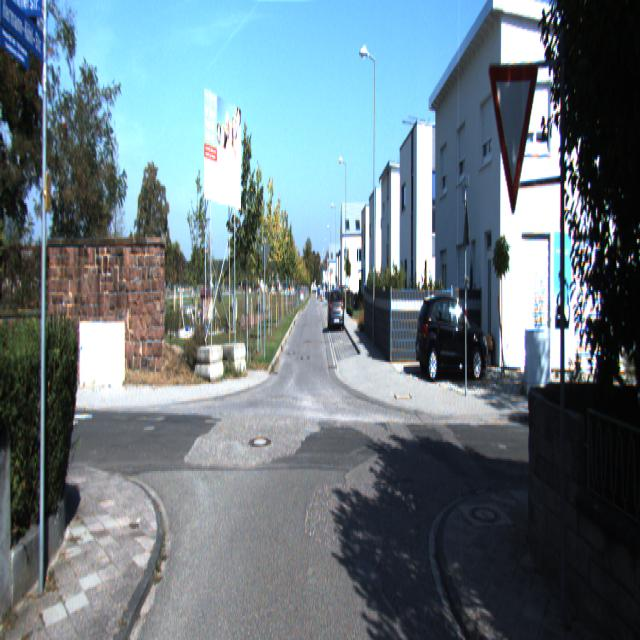Car: (414, 284, 488, 382), (328, 286, 344, 330)
